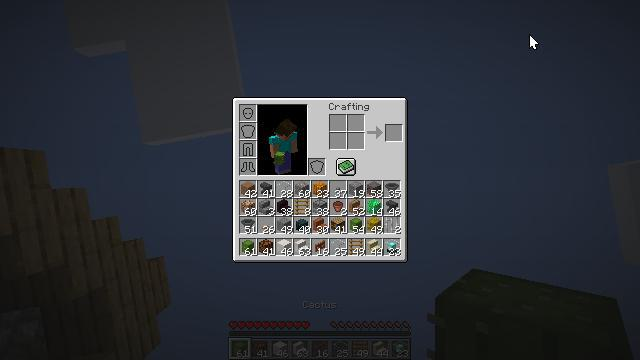cursor: (529, 34, 539, 50)
